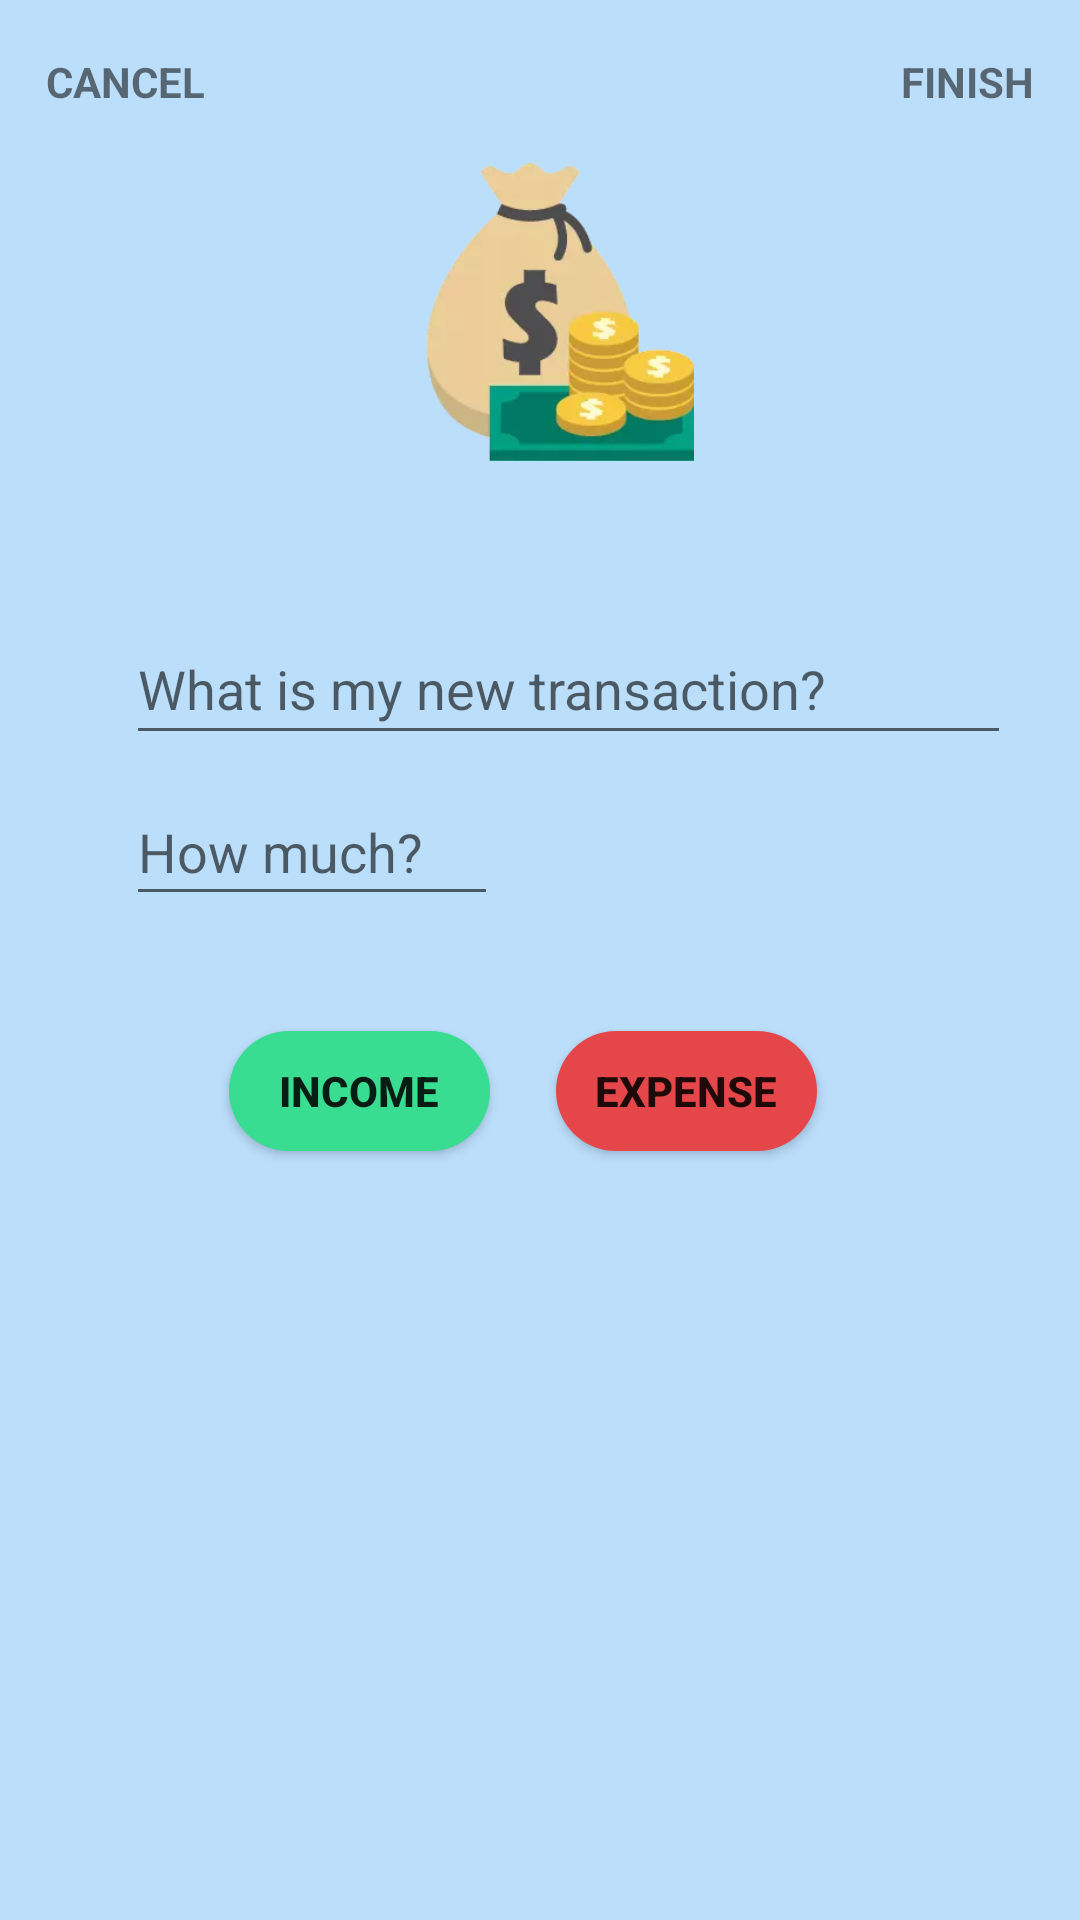

Screen size 1080px x 1920px. Icon name, then its box in pixels as [x1,y1,x2,y2]:
money: [426,163,694,461]
